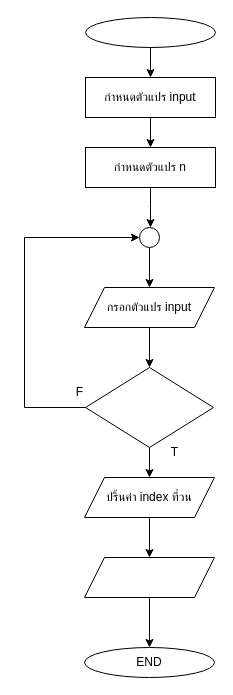
Image size: 233x695. Some labels were removed from this diagram. The box of each missing label's shape, as (x1, y1, x2, y2) in pixels:
Start: (84, 16, 216, 48)
กรอก -1 หรือไม่: (84, 366, 214, 448)
ปริ้นค่า input: (84, 556, 214, 598)
